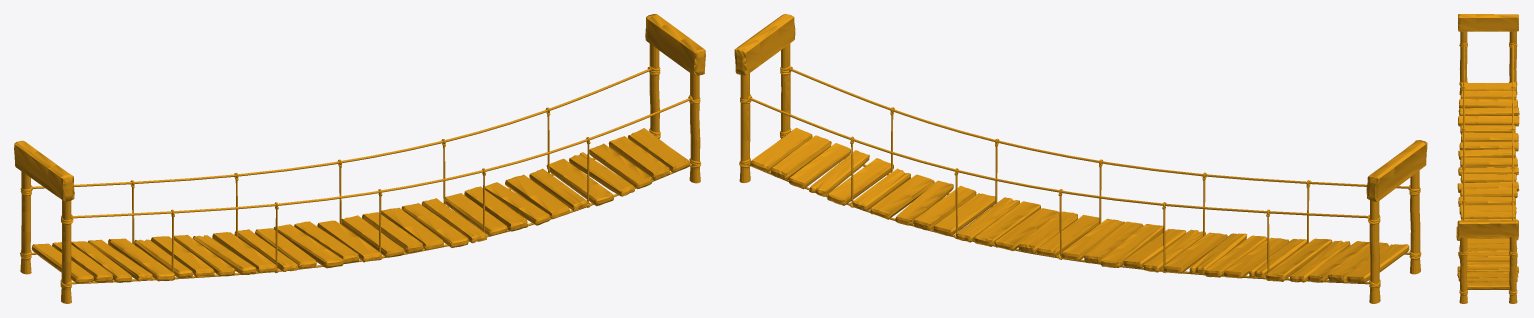
File: Bridge.fbx
3 renders of one model, left to right at view 1: azimuth 30°, elevation 25°; view 2: azimuth 150°, elevation 25°; view 3: azimuth 270°, elevation 25°, orthographic. The views are drawn at different scales.
Parts seen in each view (by area): view 1: Object_4; view 2: Object_4; view 3: Object_4.
Part boxes in pixels (x1,y1,x2,y2): Object_4: [14, 14, 705, 303]; Object_4: [734, 14, 1427, 303]; Object_4: [1456, 14, 1519, 303].
Size of the model in its own units: 2048 by 512 by 283.
